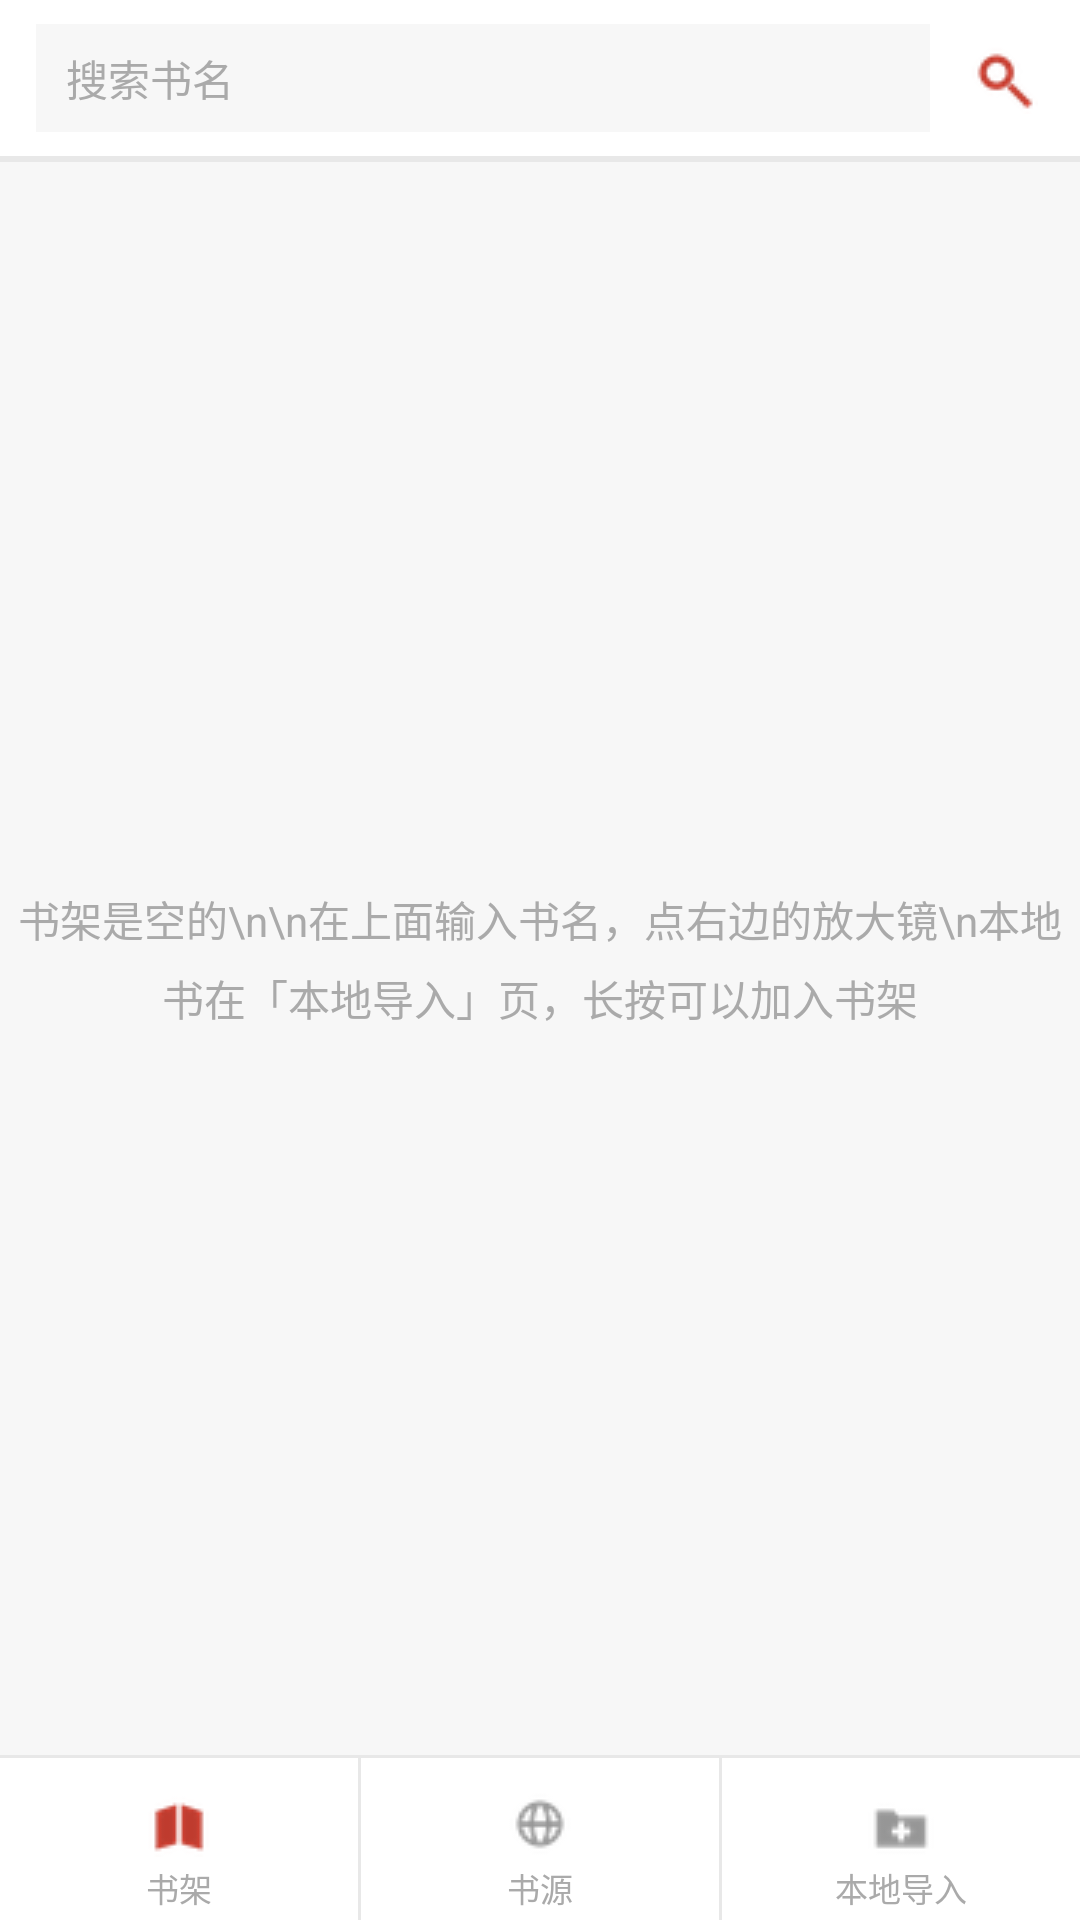

Screen size 1080*1920. Icon name, then its box in pixels as (x1,y1,x2,y2):
search: (977,53,1033,109)
